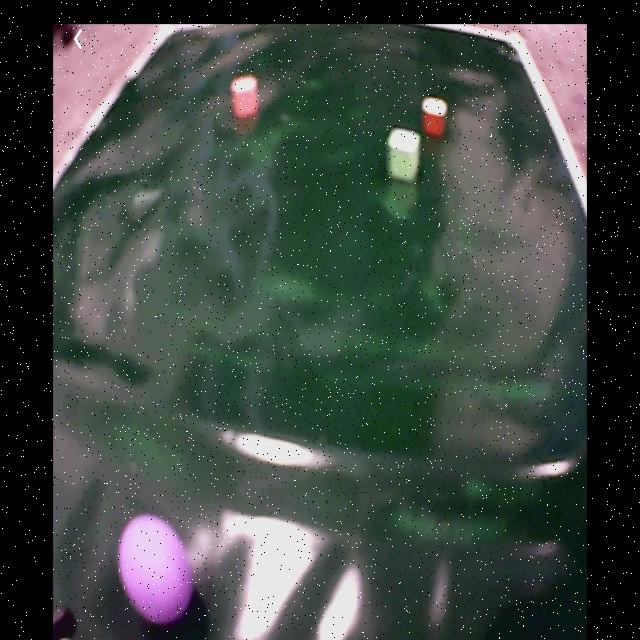ball: (119, 513, 193, 624)
